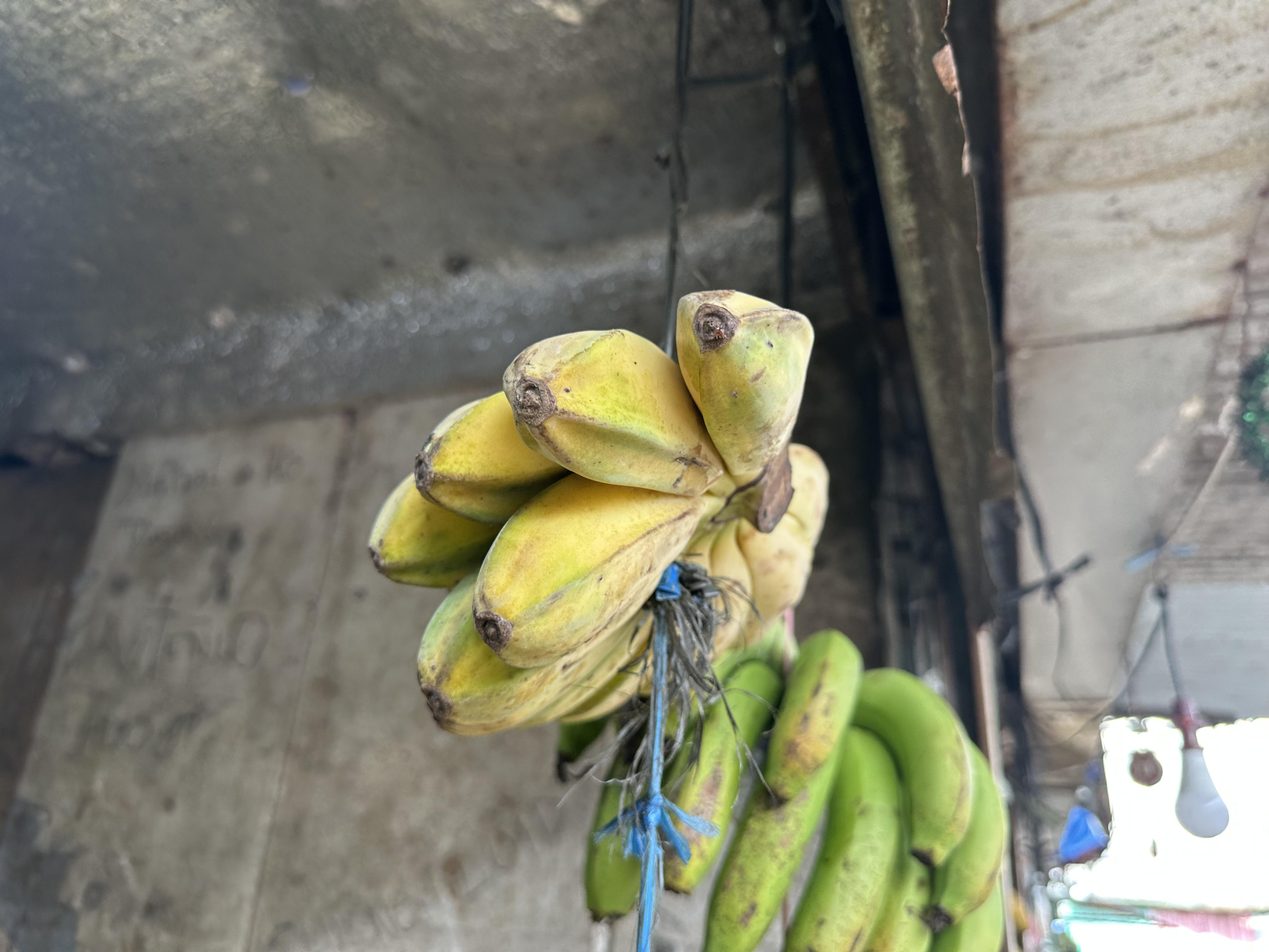underripe: (367, 293, 829, 739)
